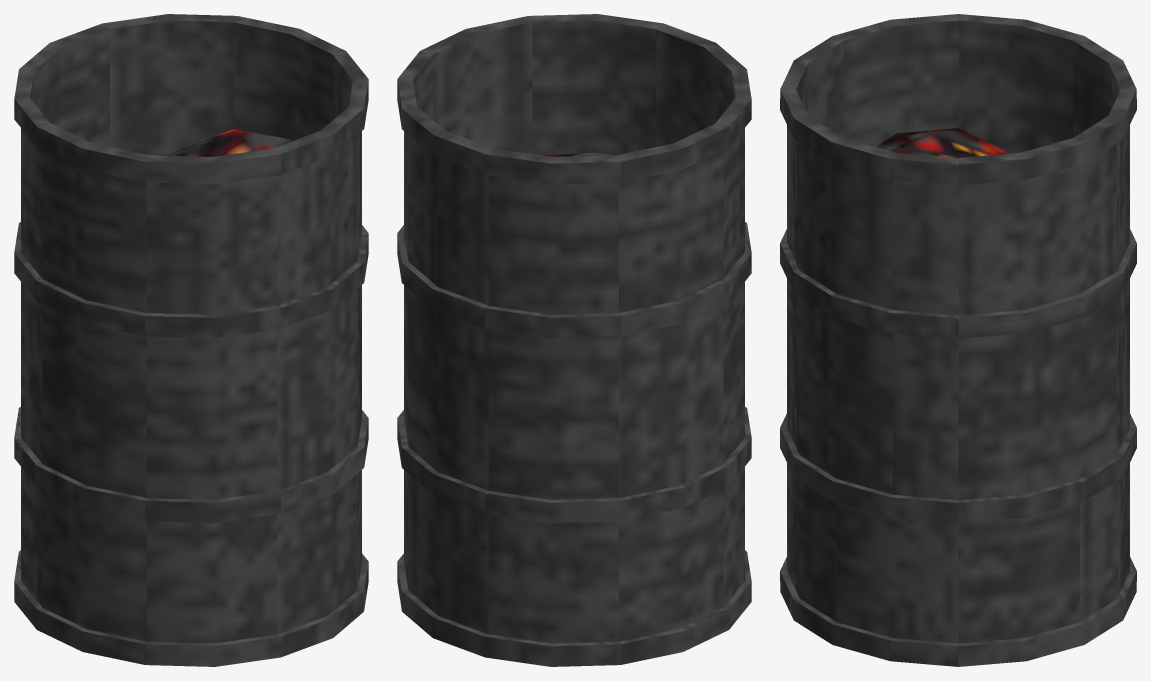
The model's file is BarrelWithFire.fbx.
3 views of the same model, side by side, from view 1: azimuth 30°, elevation 25°; view 2: azimuth 150°, elevation 25°; view 3: azimuth 270°, elevation 25° (orthographic).
Parts seen in each view (by area): view 1: Cylinder; view 2: Cylinder; view 3: Cylinder.
Boxes of the visible parts, left/top/right/bottom form: Cylinder: left=14, top=14, right=368, bottom=666; Cylinder: left=397, top=14, right=751, bottom=666; Cylinder: left=780, top=14, right=1136, bottom=666.
Size of the model in its own units: 98.59 by 153 by 98.59.
